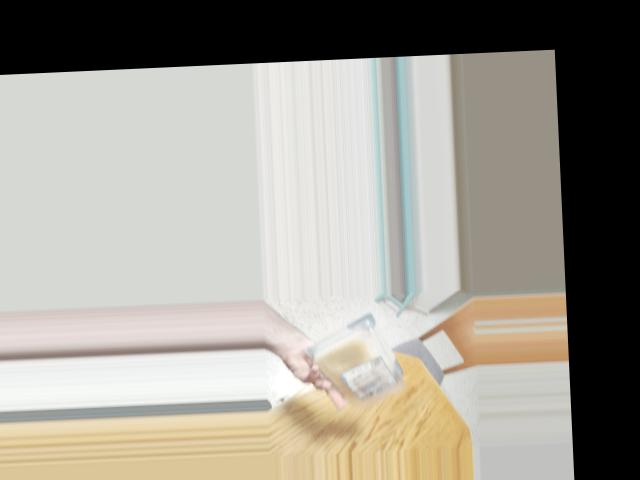cheese: (312, 328, 401, 403)
